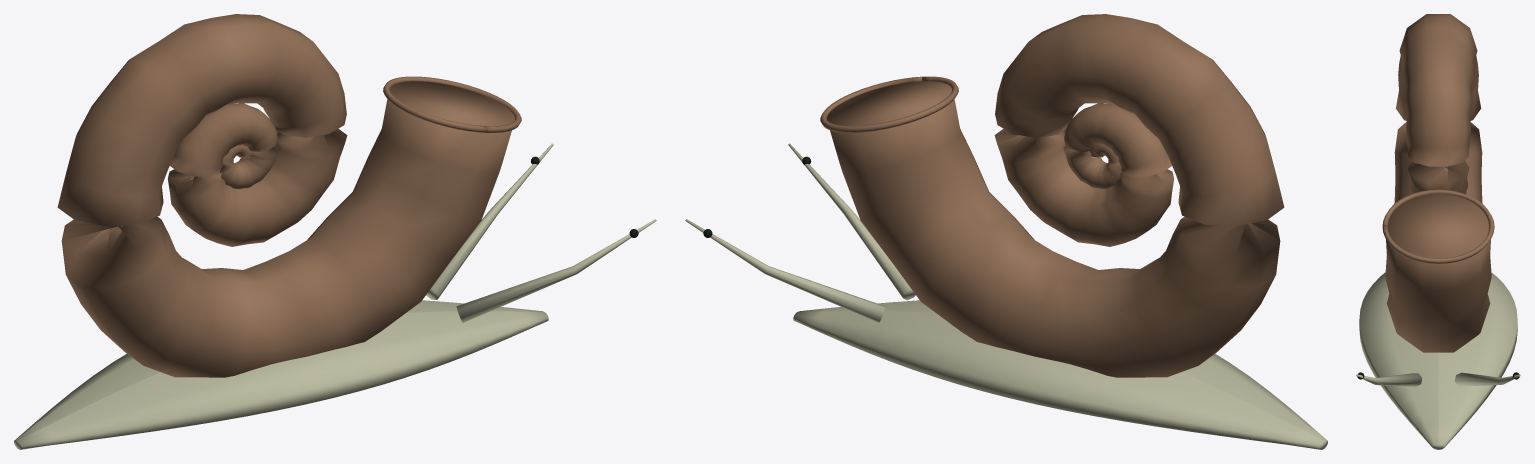
The model's file is ramshorn-mobile.glb.
3 renders of one model, left to right at view 1: azimuth 30°, elevation 25°; view 2: azimuth 150°, elevation 25°; view 3: azimuth 270°, elevation 25°, orthographic. The views are drawn at different scales.
Visible parts, largest first — view 1: continuous-whorled-shell, muscular-foot, cephalic-tentacle, aperture-lip; view 2: continuous-whorled-shell, muscular-foot, cephalic-tentacle, aperture-lip; view 3: continuous-whorled-shell, muscular-foot, aperture-lip, cephalic-tentacle.
Boxes of the visible parts, left/top/right/bottom form: continuous-whorled-shell: left=57, top=14, right=514, bottom=377; muscular-foot: left=14, top=300, right=548, bottom=449; cephalic-tentacle: left=426, top=143, right=656, bottom=322; aperture-lip: left=383, top=76, right=521, bottom=132; continuous-whorled-shell: left=827, top=14, right=1284, bottom=377; muscular-foot: left=793, top=300, right=1327, bottom=449; cephalic-tentacle: left=685, top=143, right=915, bottom=322; aperture-lip: left=820, top=76, right=958, bottom=132; continuous-whorled-shell: left=1385, top=14, right=1491, bottom=352; muscular-foot: left=1359, top=272, right=1517, bottom=449; aperture-lip: left=1382, top=189, right=1494, bottom=263; cephalic-tentacle: left=1356, top=372, right=1520, bottom=386.
Bounding box in the file's own units: 0.5905 × 0.3625 × 0.1819.
